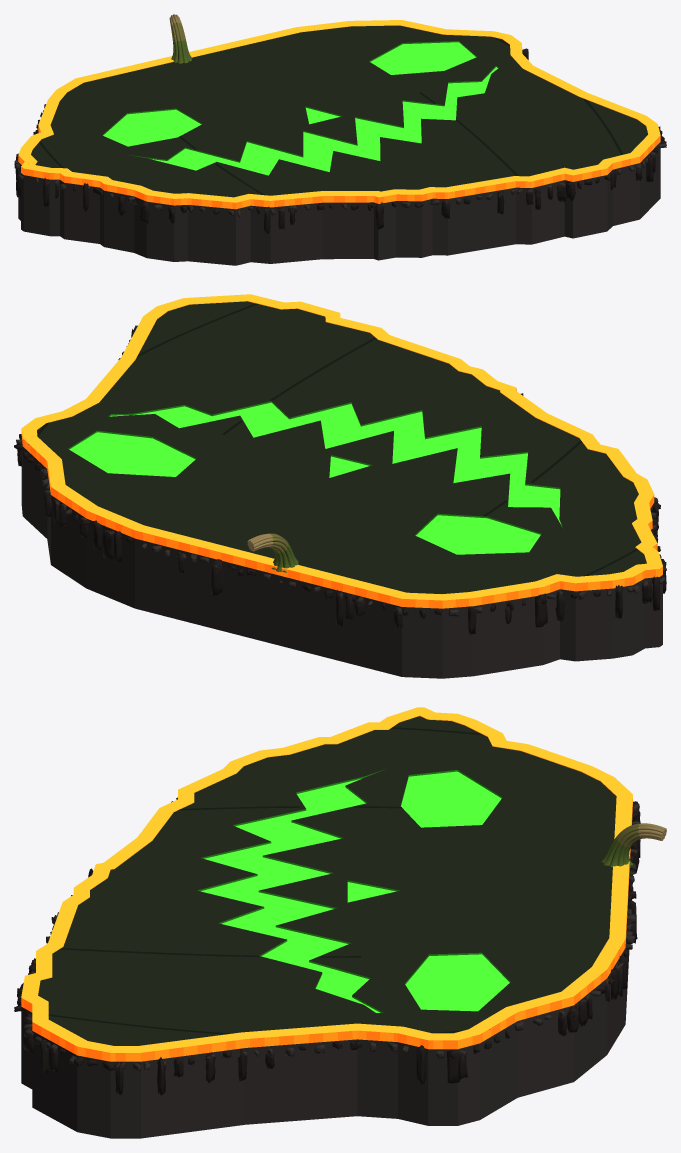
Rendered from hg-island.glb.
3 renders of one model, top to bottom at view 1: azimuth 30°, elevation 25°; view 2: azimuth 150°, elevation 25°; view 3: azimuth 270°, elevation 25°, orthographic. The views are drawn at different scales.
Parts seen in each view (by area): view 1: hg-island; view 2: hg-island; view 3: hg-island.
Boxes of the visible parts, bbox=[...] form: hg-island: bbox=[14, 14, 666, 265]; hg-island: bbox=[14, 294, 666, 678]; hg-island: bbox=[14, 707, 666, 1138].
Bounding box in the file's own units: 407 × 68.2 × 320.
